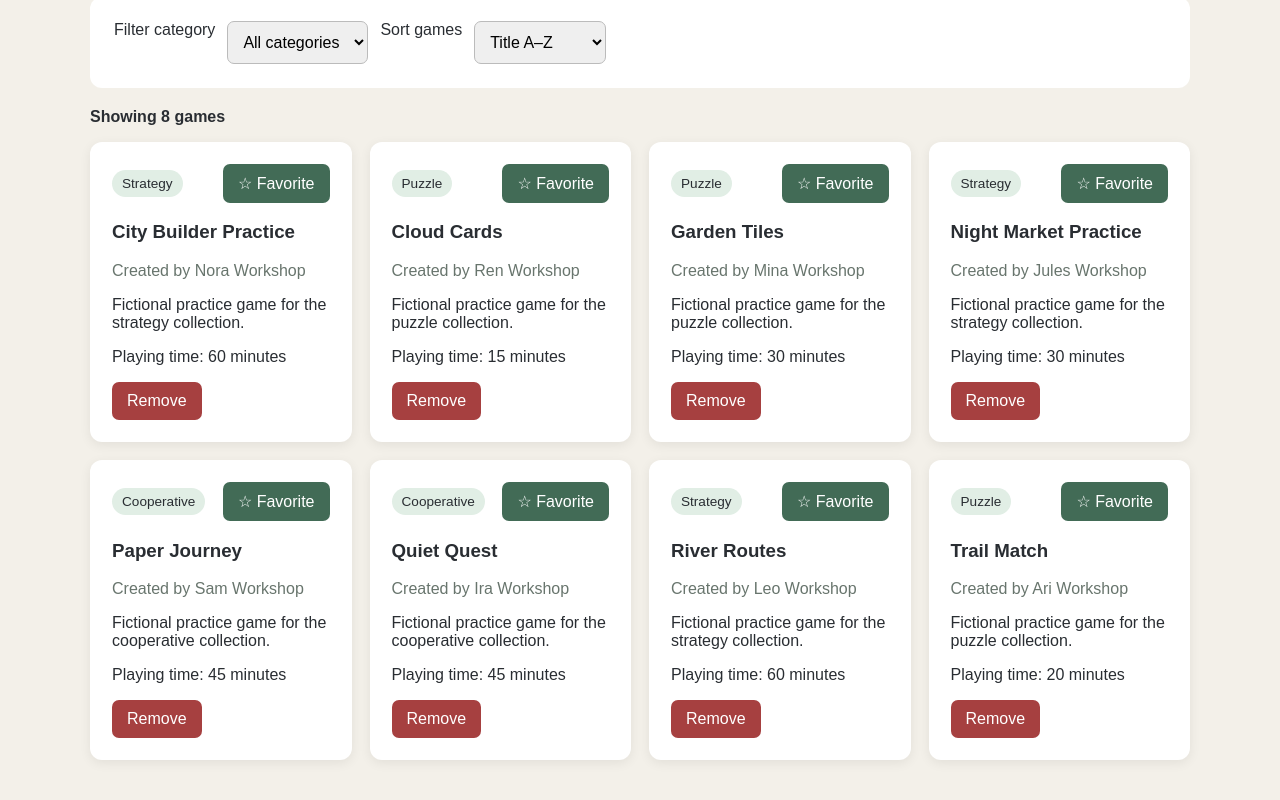
Scenario: removes a game from the collection
(page scrolled)
Click the button "Remove" below "Nora Workshop". click: [157, 401]
box: top-left (112, 382), bottom-right (202, 420)
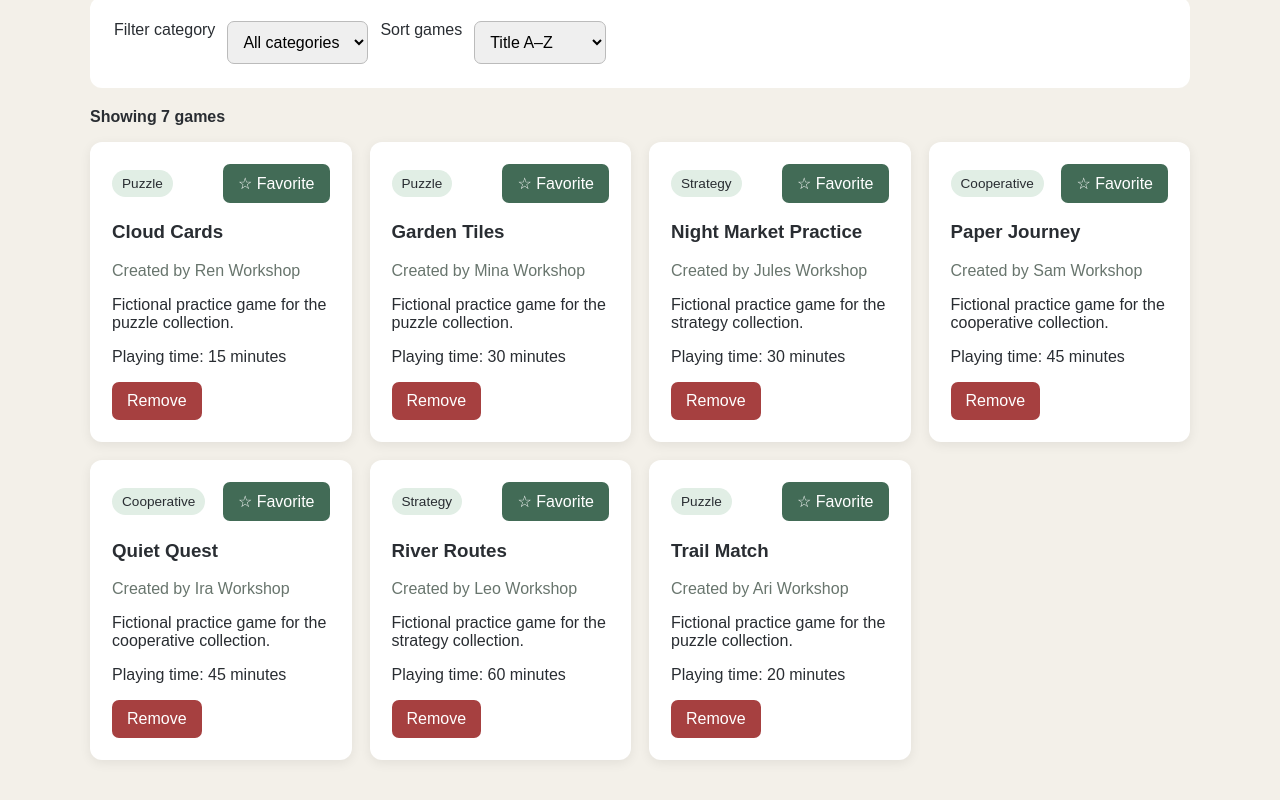
Now the text "Showing 7 games" is shown, box top-left (90, 108), bottom-right (225, 125)
